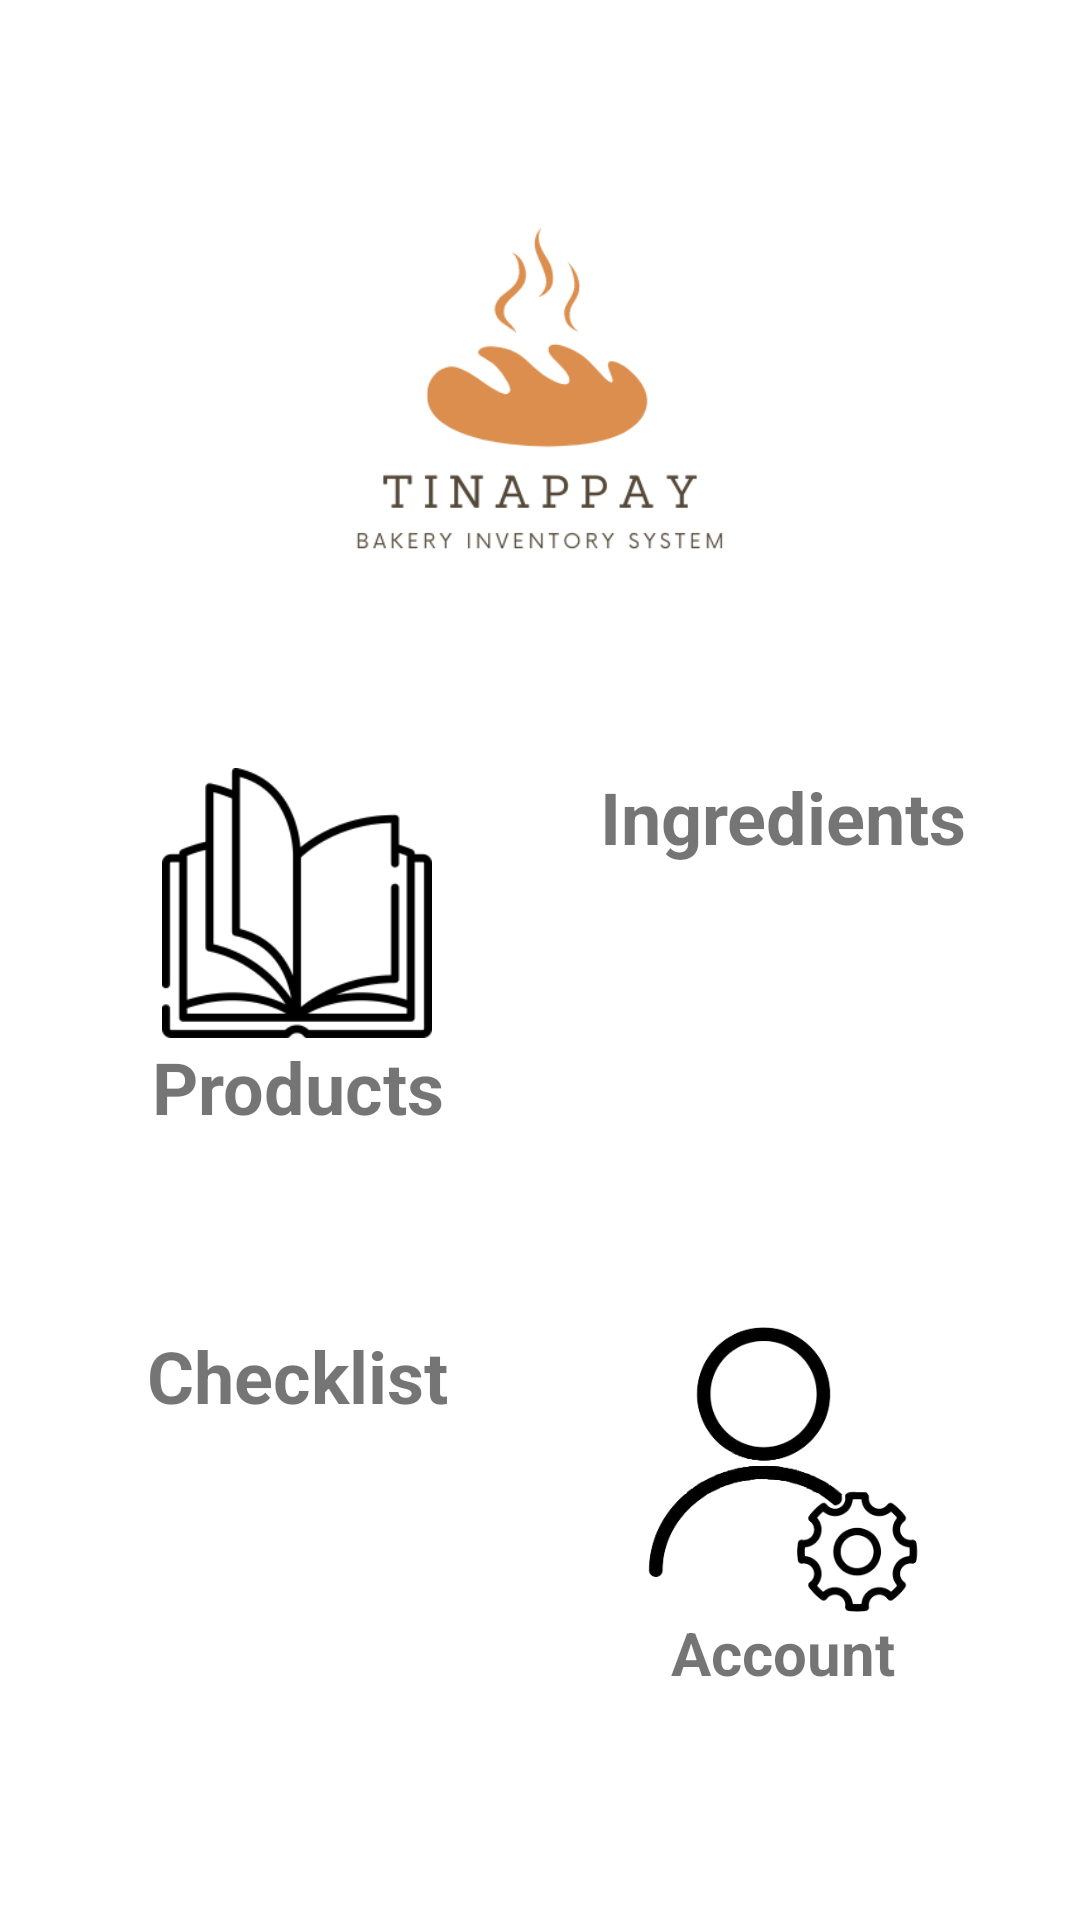

Icon bounding boxes for this 1080×1920 phone screenshot, format (x1, y1, x2, y2):
settings: (648, 1327, 918, 1612)
